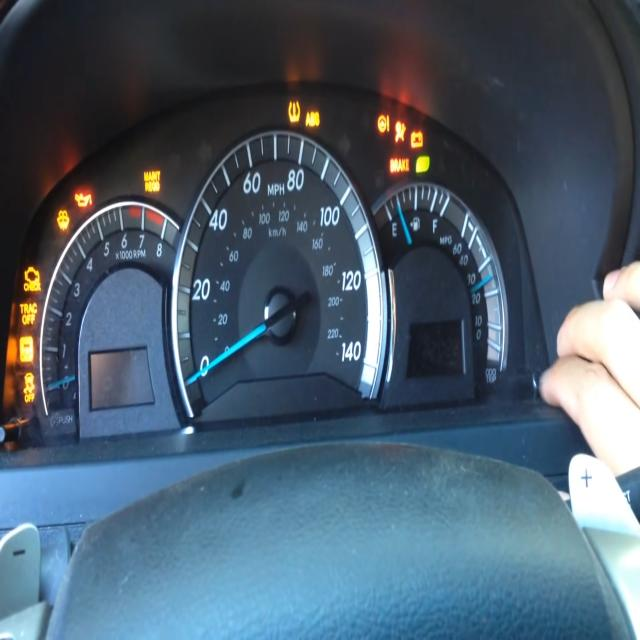Anti Lock Braking System: (305, 111, 321, 127)
Braking System Issue: (389, 157, 410, 173)
Charging System Issue: (411, 130, 423, 148)
Check Engine: (23, 266, 42, 292)
Low Engine Oil Warning Light: (74, 190, 93, 209)
Low Tire Pressure Warning Light: (288, 100, 301, 124)
SRS-Airbag: (394, 120, 406, 143)
